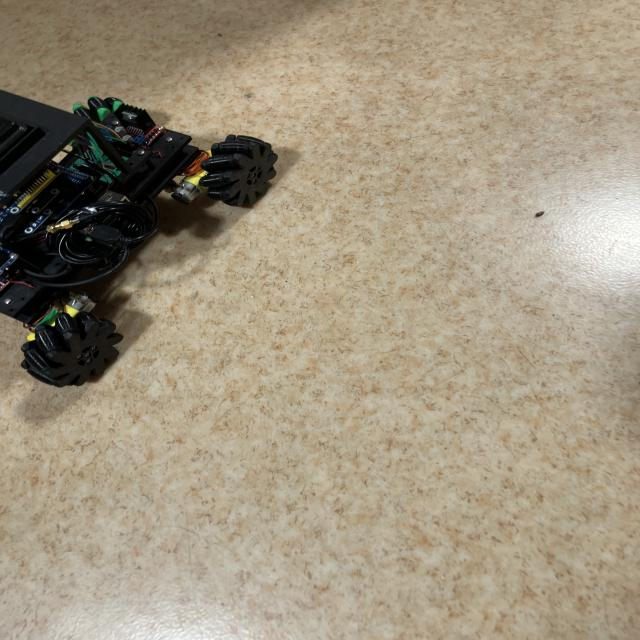robot: (0, 91, 277, 387)
